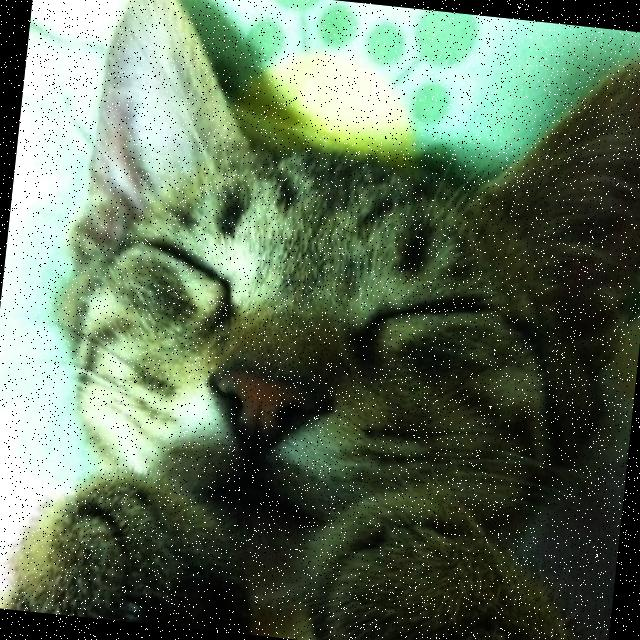Happy: (49, 164, 542, 582)
